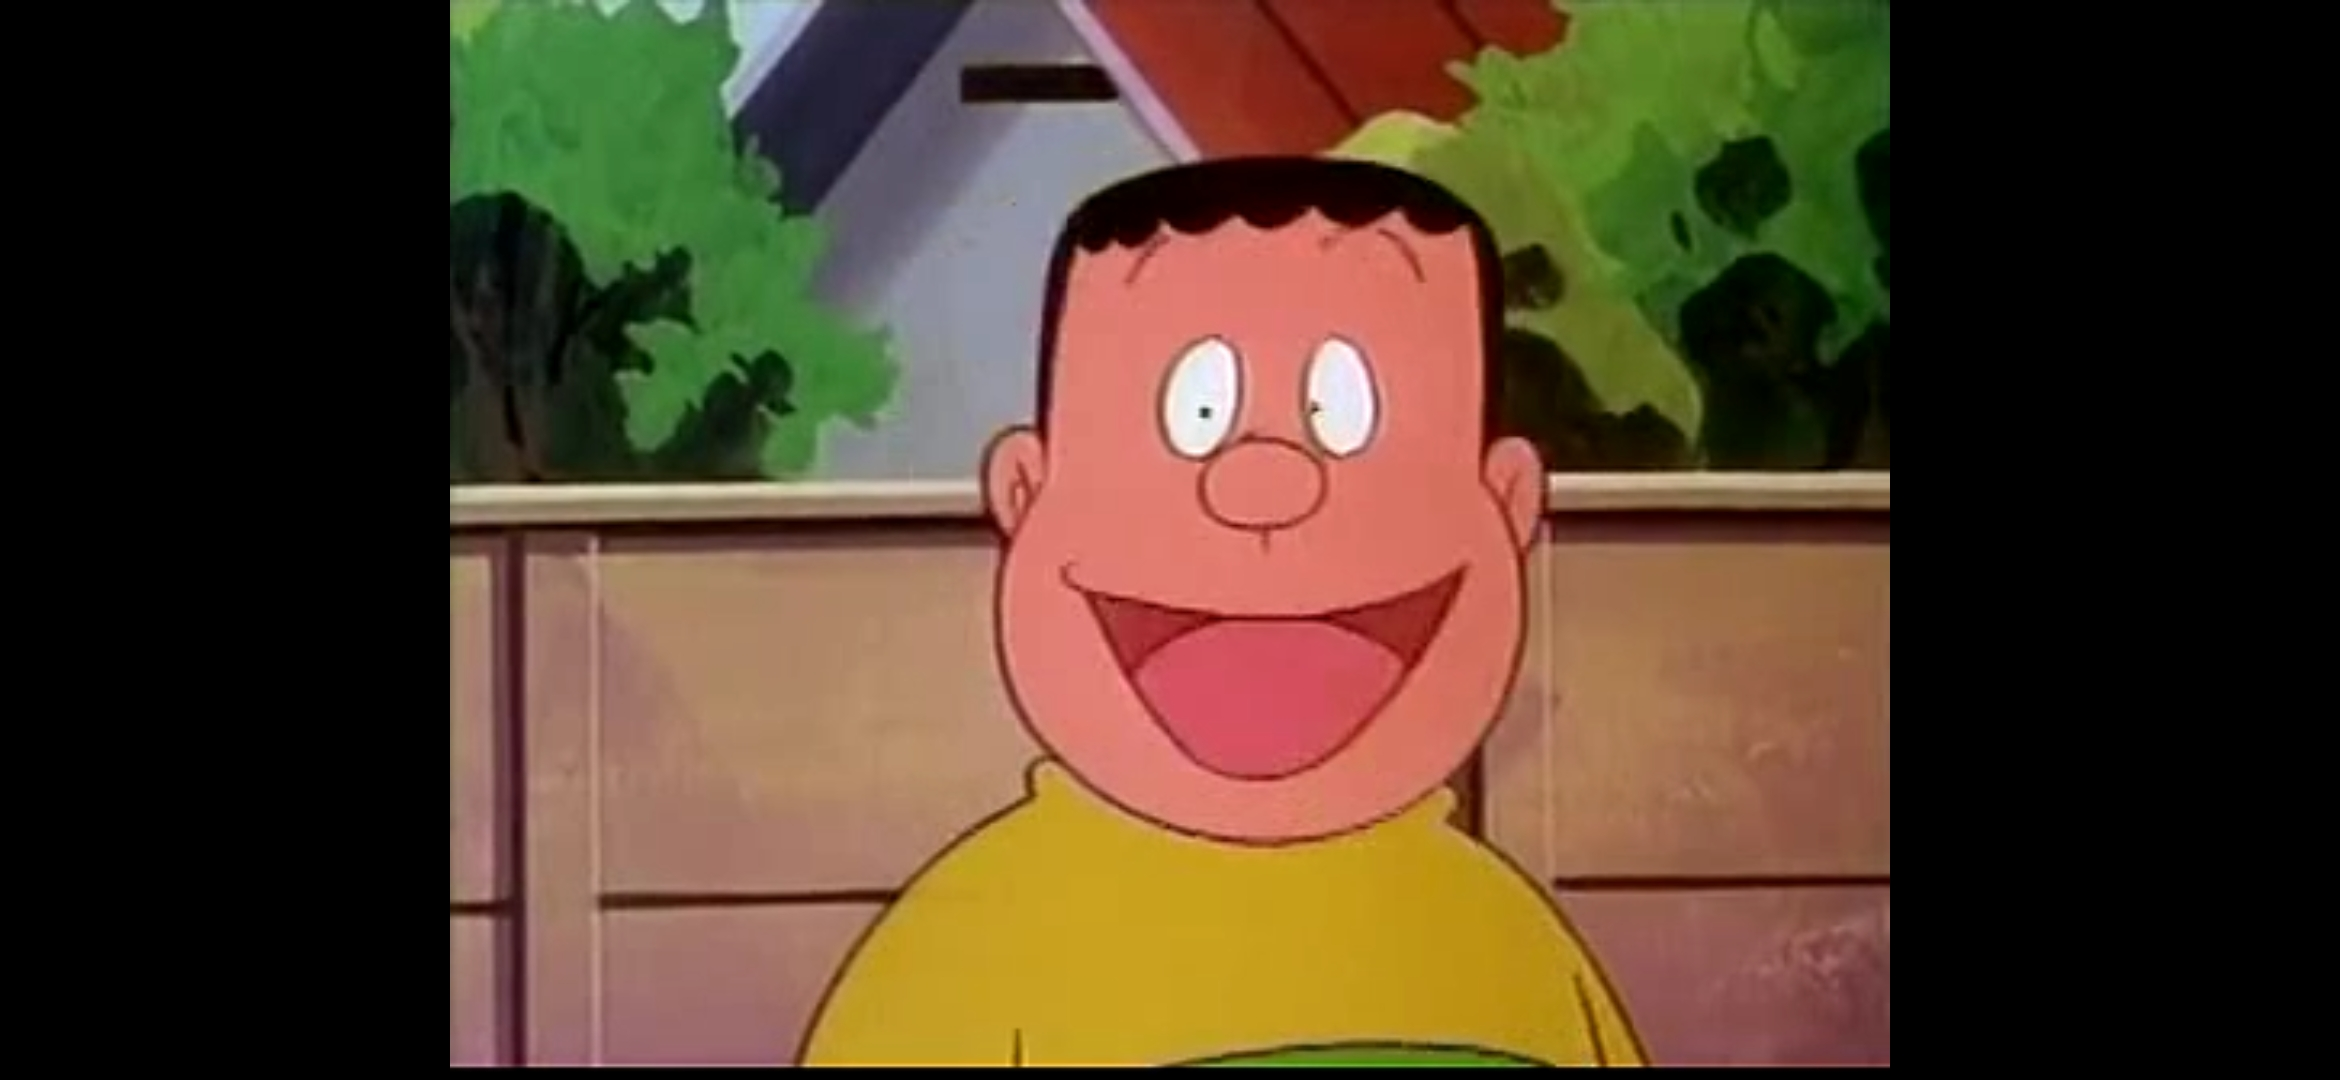Takeshi: (983, 155, 1545, 844)
